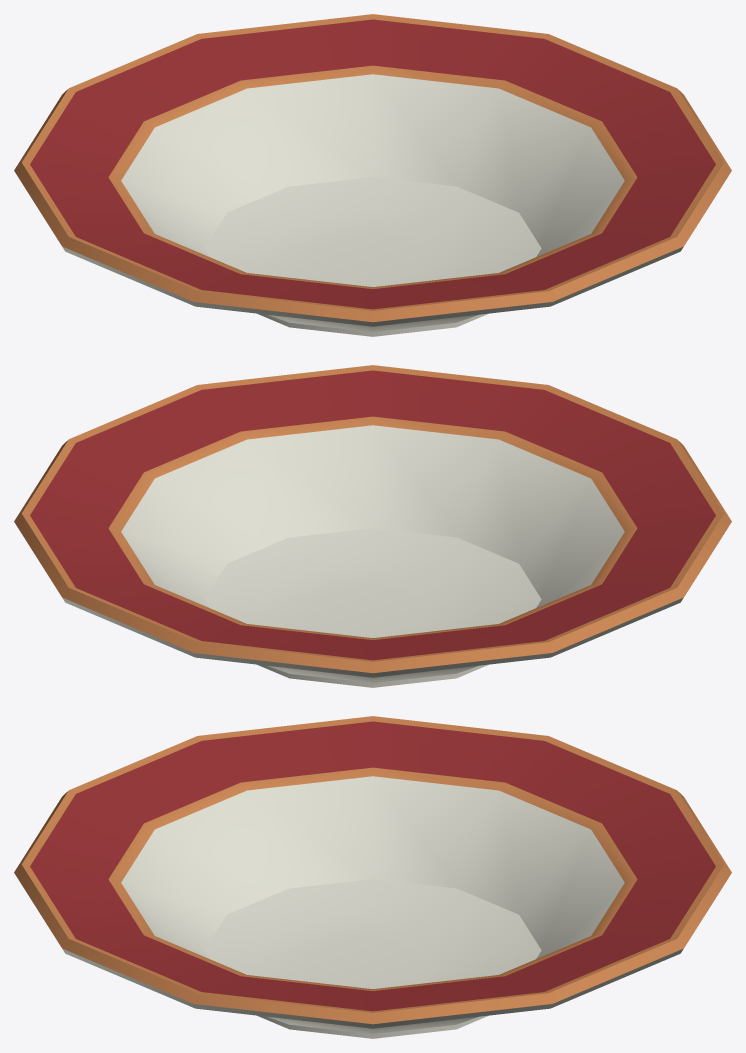
Rendered from Plate_soup.fbx.
3 views of the same model, one above another, from view 1: azimuth 30°, elevation 25°; view 2: azimuth 150°, elevation 25°; view 3: azimuth 270°, elevation 25° (orthographic).
Parts seen in each view (by area): view 1: Plate_soup; view 2: Plate_soup; view 3: Plate_soup.
Boxes of the visible parts, bbox=[...] form: Plate_soup: bbox=[14, 14, 731, 336]; Plate_soup: bbox=[14, 365, 731, 687]; Plate_soup: bbox=[14, 716, 731, 1038].
Bounding box in the file's own units: 0.2311 × 0.0369 × 0.2311.
